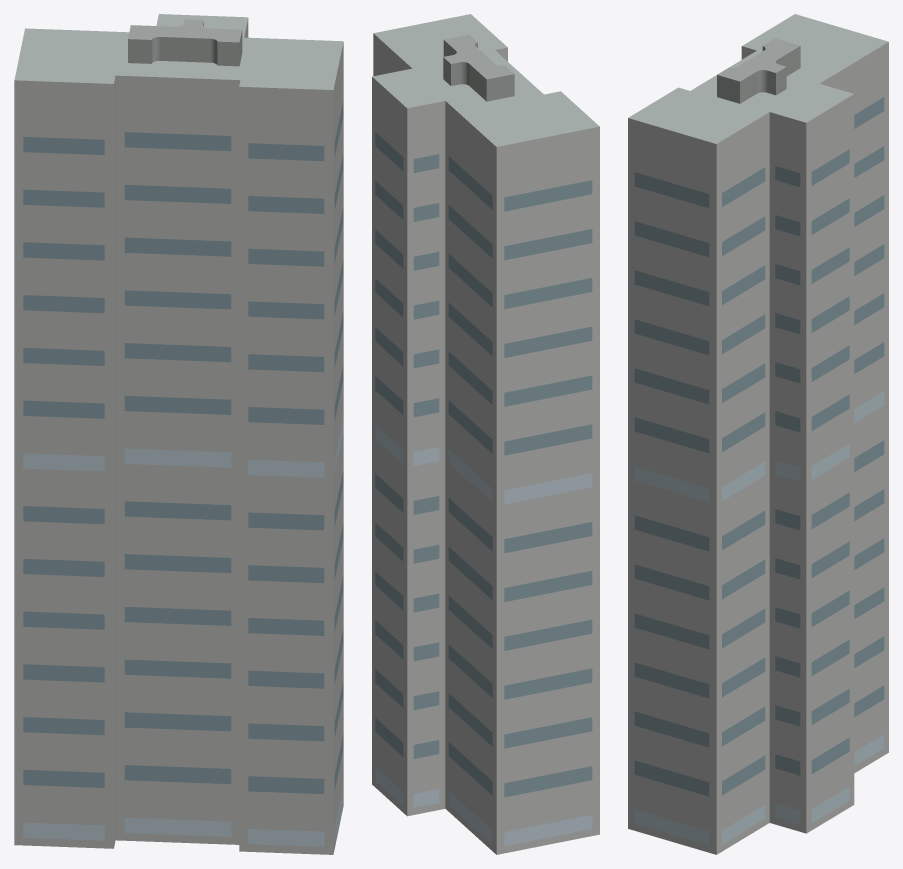
The model's file is fallback-lake-palace-112.glb.
3 views of the same model, side by side, from view 1: azimuth 30°, elevation 25°; view 2: azimuth 150°, elevation 25°; view 3: azimuth 270°, elevation 25° (orthographic). The views are drawn at different scales.
Parts seen in each view (by area): view 1: fallback-lake-palace-112; view 2: fallback-lake-palace-112; view 3: fallback-lake-palace-112.
Boxes of the visible parts, box(x1,y1,x2,y2) form: fallback-lake-palace-112: box(14, 14, 343, 854); fallback-lake-palace-112: box(372, 14, 599, 854); fallback-lake-palace-112: box(628, 14, 888, 854).
Bounding box in the file's own units: 30.08 × 79 × 25.48.
